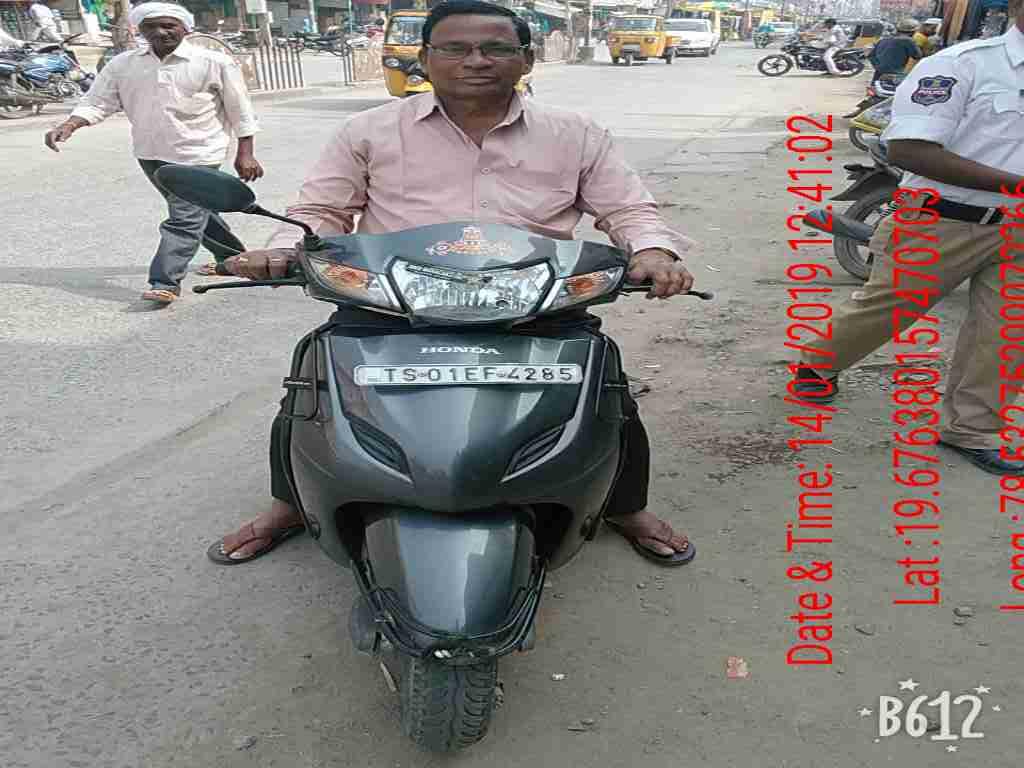plate: (347, 362, 587, 391)
